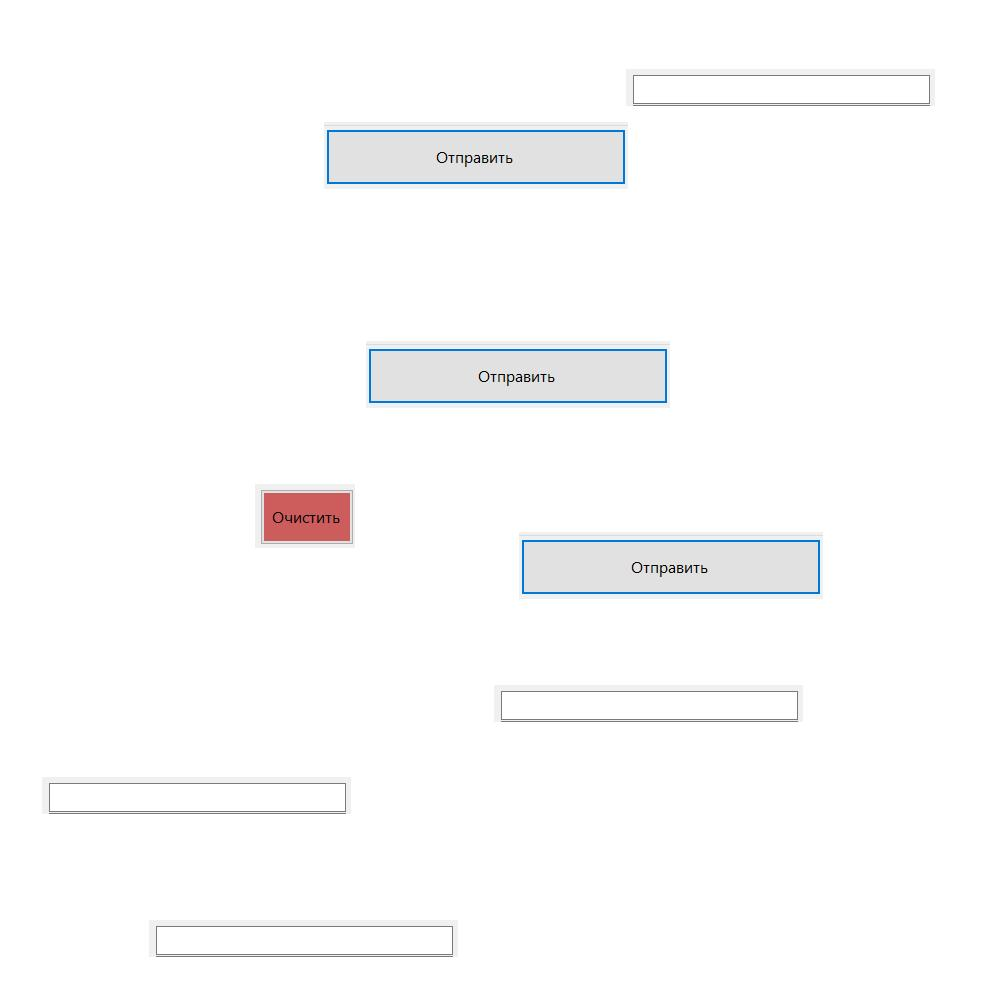Button: (324, 122, 628, 189), (519, 532, 823, 599), (366, 341, 670, 408), (255, 484, 355, 548)
EditText-: (149, 920, 458, 957), (42, 777, 351, 814), (494, 685, 803, 722), (626, 69, 935, 106)
